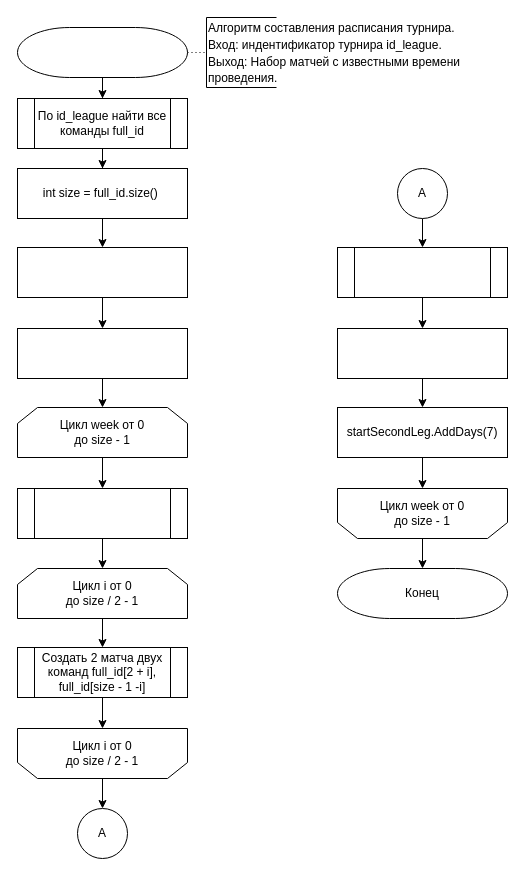
The diagram is 525 pixels wide and 876 high, and some of its shapes have lost their labels. Here are the shapes that lost their labels. From the top down, the box of each, then its label:
(16, 26, 188, 78): Начало
(16, 246, 188, 298): Инициация startFirstLeg
(336, 246, 508, 298): rotate()
(16, 328, 188, 378): startSecondLeg = startFirstLeg.AddDays(7 * (size - 1))
(336, 328, 508, 378): startFirstLeg.AddDays(7)
(16, 488, 188, 538): Создать 2 матча двух команд full_id[0], full_id[1]
